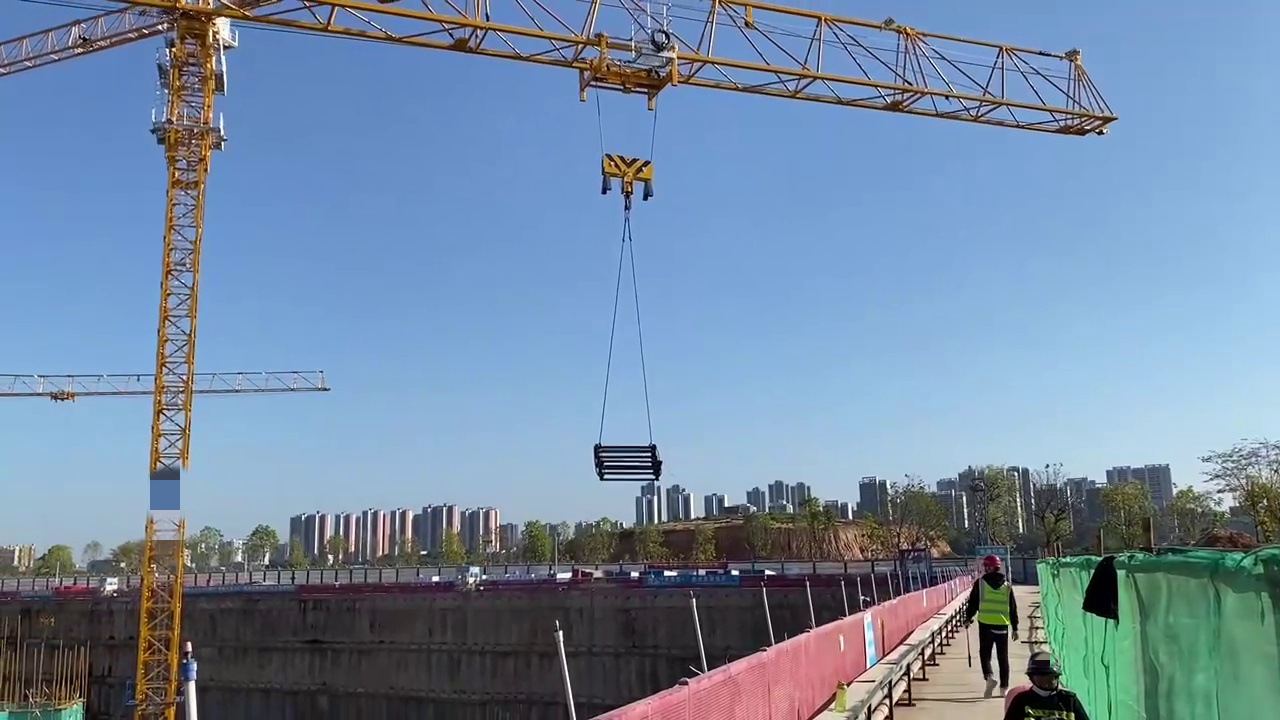fence: (576, 604, 891, 720), (889, 569, 967, 628)
helmet: (1025, 651, 1063, 675), (983, 554, 1001, 568)
hook: (597, 150, 658, 194)
person: (972, 555, 1017, 692), (1012, 648, 1079, 720)
vest: (978, 575, 1006, 627)
